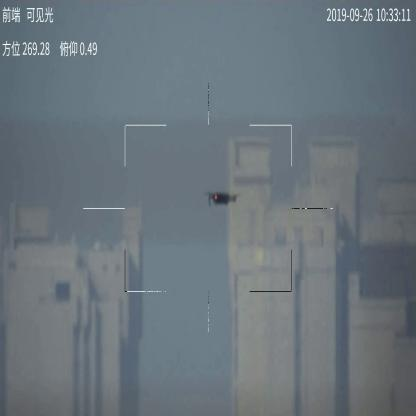uav: (201, 189, 240, 207)
